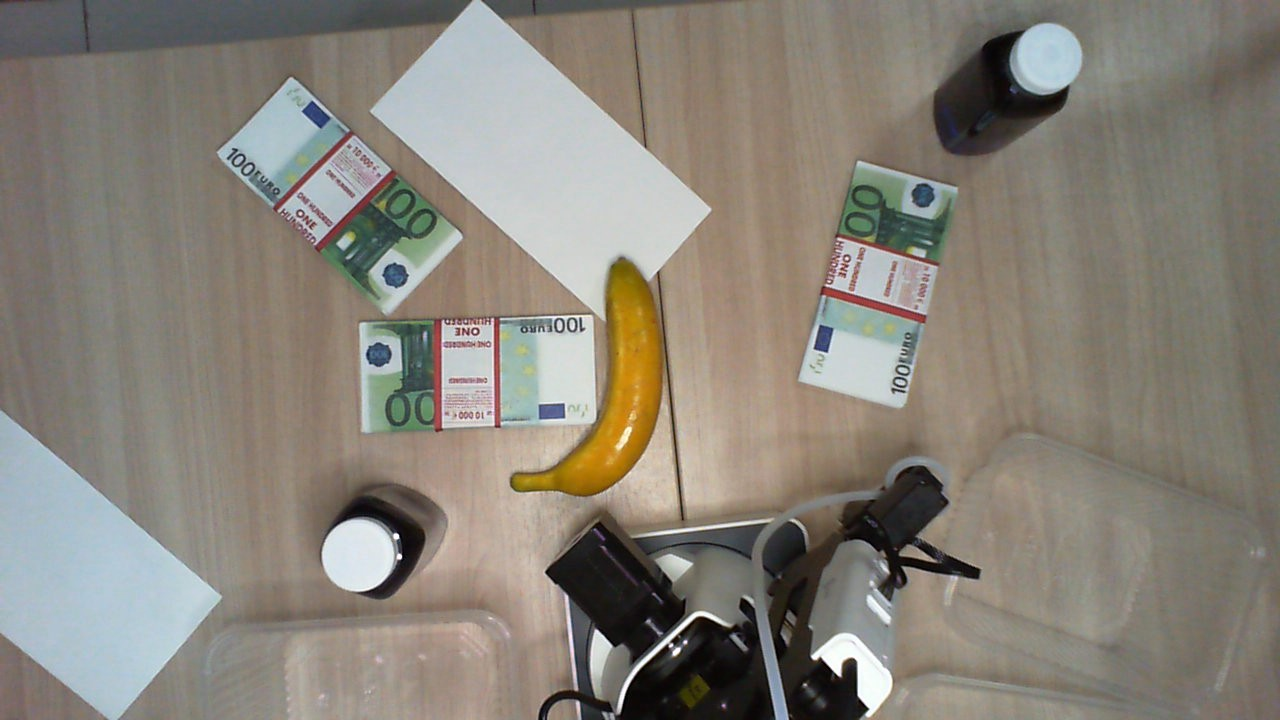banana: (511, 256, 667, 497)
bottle: (318, 495, 423, 599), (982, 21, 1083, 117)
convert: (370, 1, 710, 325), (2, 409, 223, 718)
money: (215, 73, 463, 317), (797, 159, 959, 408), (358, 313, 597, 437)
